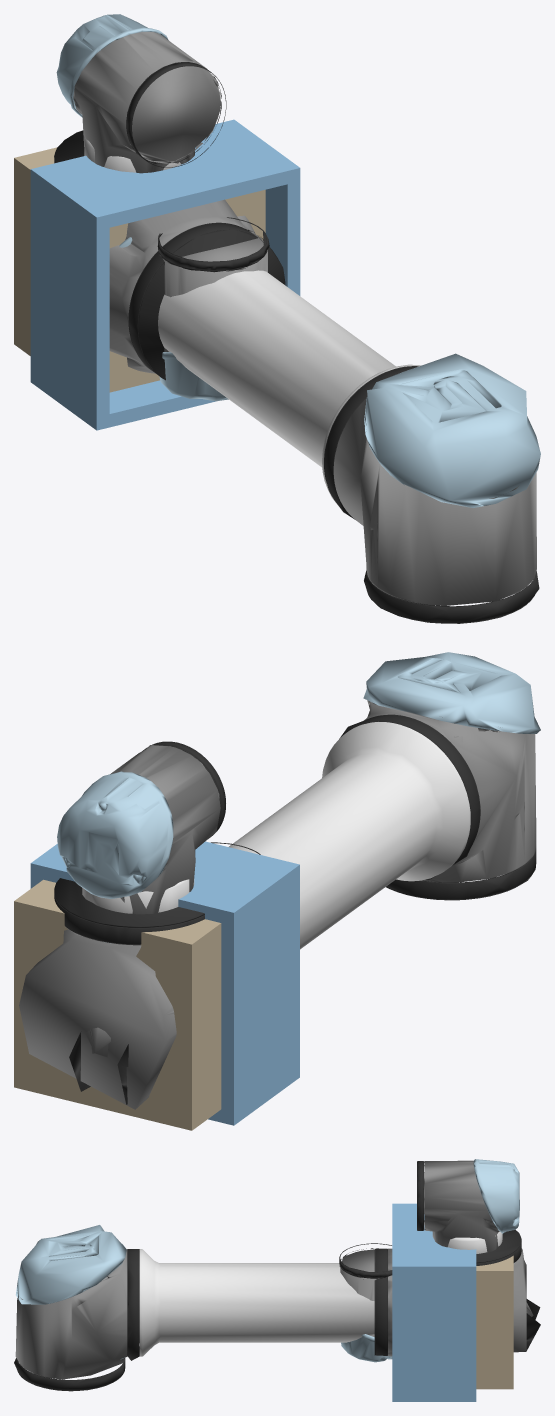
Rendered from dexterlab.glb.
3 renders of one model, top to bottom at view 1: azimuth 30°, elevation 25°; view 2: azimuth 150°, elevation 25°; view 3: azimuth 270°, elevation 25°, orthographic. The views are drawn at different scales.
Parts seen in each view (by area): view 1: pp_container__container, upper_arm_link__linkgray, upper_arm_link__jointgray, upper_arm_link__urblue, wrist_1_link__jointgray, pp_platform__pp_platform, base__jointgray, base__black, upper_arm_link__black, wrist_1_link__urblue, wrist_2_link__jointgray, wrist_2_link__urblue (+2 smaller); view 2: upper_arm_link__linkgray, pp_container__container, pp_platform__pp_platform, shoulder_link__jointgray, upper_arm_link__jointgray, wrist_1_link__urblue, upper_arm_link__urblue, wrist_1_link__jointgray, upper_arm_link__black, shoulder_link__black, wrist_3_link__linkgray, wrist_1_link__black (+1 smaller); view 3: upper_arm_link__linkgray, pp_container__container, upper_arm_link__jointgray, upper_arm_link__urblue, wrist_1_link__jointgray, pp_platform__pp_platform, upper_arm_link__black, wrist_1_link__urblue, base__black, shoulder_link__jointgray, wrist_2_link__jointgray, shoulder_link__black (+6 smaller).
Boxes of the visible parts, x1,y1,x2,y2 form: pp_container__container: [30, 119, 300, 430]; upper_arm_link__linkgray: [158, 270, 420, 505]; upper_arm_link__jointgray: [123, 240, 536, 605]; upper_arm_link__urblue: [364, 353, 540, 507]; wrist_1_link__jointgray: [73, 32, 221, 173]; pp_platform__pp_platform: [14, 147, 265, 392]; base__jointgray: [109, 199, 255, 373]; base__black: [128, 222, 285, 380]; upper_arm_link__black: [324, 366, 539, 623]; wrist_1_link__urblue: [56, 14, 168, 117]; wrist_2_link__jointgray: [160, 233, 267, 351]; wrist_2_link__urblue: [159, 352, 228, 401]; upper_arm_link__linkgray: [229, 722, 470, 949]; pp_container__container: [30, 841, 299, 1125]; pp_platform__pp_platform: [14, 879, 221, 1130]; shoulder_link__jointgray: [19, 927, 176, 1109]; upper_arm_link__jointgray: [86, 700, 536, 1057]; wrist_1_link__urblue: [57, 771, 173, 898]; upper_arm_link__urblue: [363, 652, 540, 733]; wrist_1_link__jointgray: [82, 745, 220, 914]; upper_arm_link__black: [339, 714, 536, 900]; shoulder_link__black: [54, 878, 204, 945]; wrist_3_link__linkgray: [92, 879, 194, 913]; wrist_1_link__black: [143, 741, 225, 837]; upper_arm_link__linkgray: [139, 1249, 374, 1356]; pp_container__container: [392, 1203, 476, 1401]; upper_arm_link__jointgray: [15, 1249, 533, 1379]; upper_arm_link__urblue: [15, 1225, 126, 1304]; wrist_1_link__jointgray: [424, 1160, 499, 1252]; pp_platform__pp_platform: [476, 1255, 513, 1389]; upper_arm_link__black: [14, 1249, 139, 1391]; wrist_1_link__urblue: [473, 1159, 519, 1233]; base__black: [374, 1248, 387, 1355]; shoulder_link__jointgray: [513, 1248, 526, 1352]; wrist_2_link__jointgray: [339, 1249, 379, 1336]; shoulder_link__black: [476, 1229, 521, 1265].
Bounding box in the file's own units: 0.16 × 0.2458 × 0.5651.
